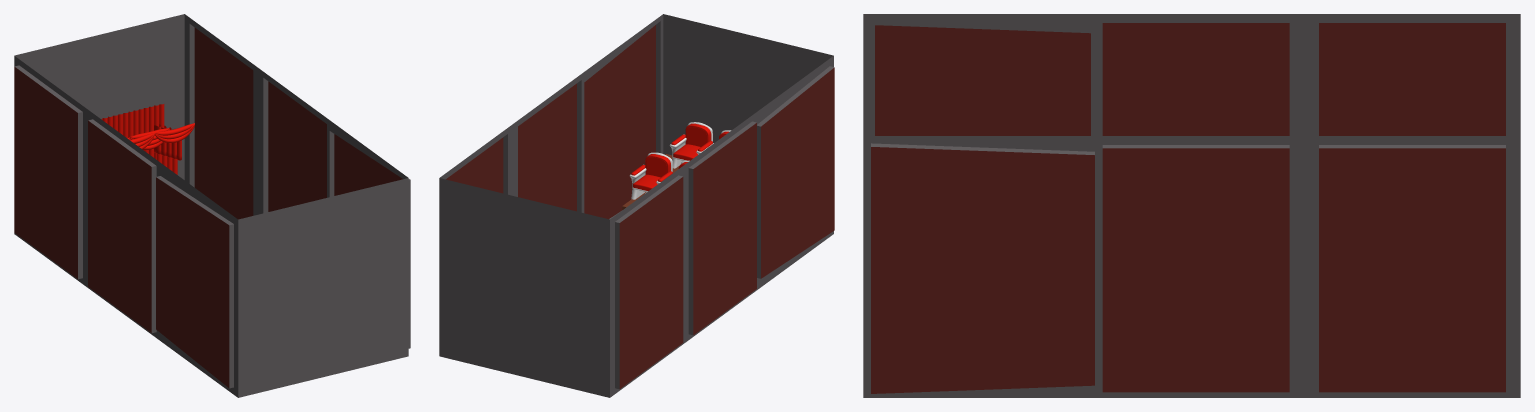
File: Teatro_V01.fbx
3 renders of one model, left to right at view 1: azimuth 30°, elevation 25°; view 2: azimuth 150°, elevation 25°; view 3: azimuth 270°, elevation 25°, orthographic. The views are drawn at different scales.
Parts seen in each view (by area): view 1: geo_escenario; view 2: geo_escenario; view 3: geo_escenario.
Boxes of the visible parts, bbox=[...] form: geo_escenario: bbox=[14, 14, 410, 397]; geo_escenario: bbox=[439, 14, 834, 397]; geo_escenario: bbox=[863, 14, 1520, 397].
Bounding box in the file's own units: 426 × 404 × 918.
